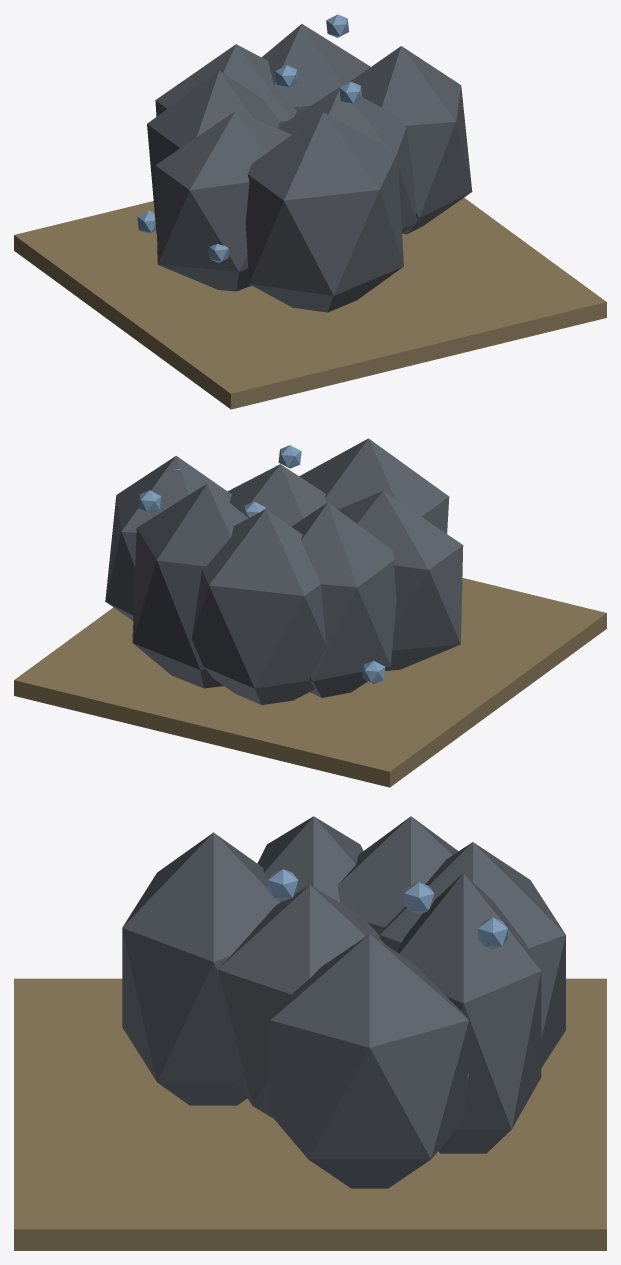
Rendered from Deposit_Titanium_Normal.fbx.
3 views of the same model, one above another, from view 1: azimuth 30°, elevation 25°; view 2: azimuth 150°, elevation 25°; view 3: azimuth 270°, elevation 25° (orthographic). The views are drawn at different scales.
Visible parts, largest first — view 1: Deposit_Titanium_Normal_Body; view 2: Deposit_Titanium_Normal_Body; view 3: Deposit_Titanium_Normal_Body.
Part boxes in pixels (x1,y1,x2,y2): Deposit_Titanium_Normal_Body: [14, 14, 606, 409]; Deposit_Titanium_Normal_Body: [14, 438, 606, 787]; Deposit_Titanium_Normal_Body: [14, 816, 606, 1250].
Size of the model in its own units: 1 by 0.5627 by 1.
